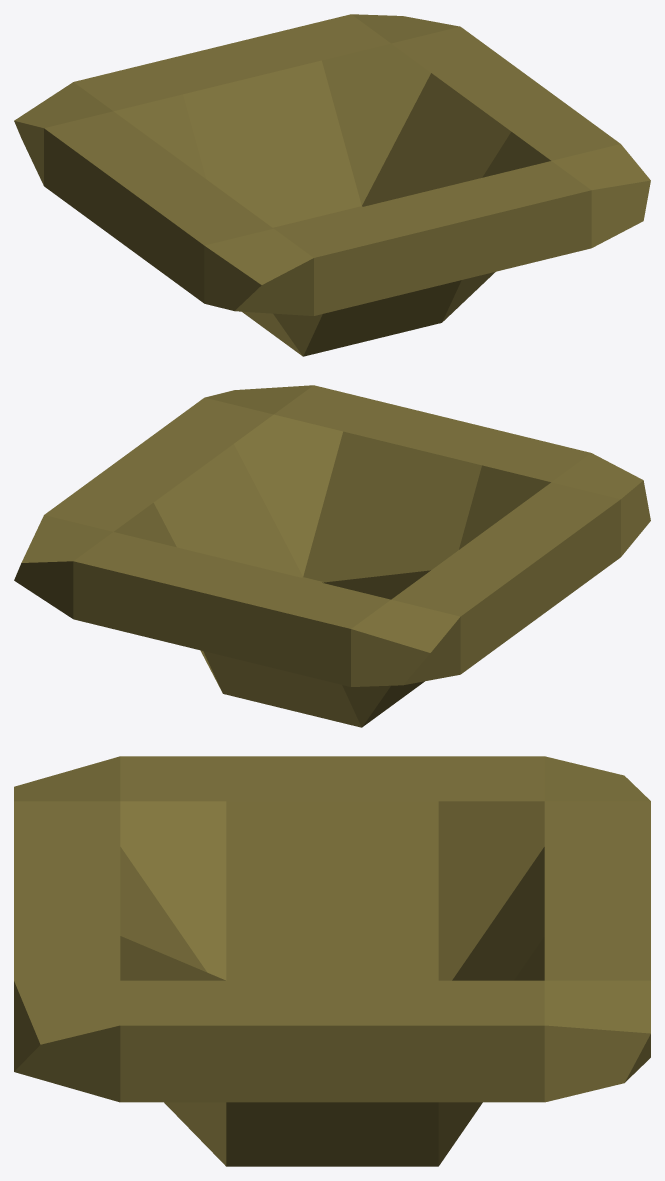
Rendered from Urna.fbx.
The picture shows the model from 3 angles, top to bottom: view 1: azimuth 30°, elevation 25°; view 2: azimuth 150°, elevation 25°; view 3: azimuth 270°, elevation 25°; orthographic projection. The views are drawn at different scales.
Visible parts, largest first — view 1: Cube; view 2: Cube; view 3: Cube.
Part boxes in pixels (box(x1,y1,x2,y2)): Cube: box(14, 14, 650, 356); Cube: box(14, 385, 650, 727); Cube: box(14, 756, 650, 1166).
Bounding box in the file's own units: 20 × 20 × 8.
